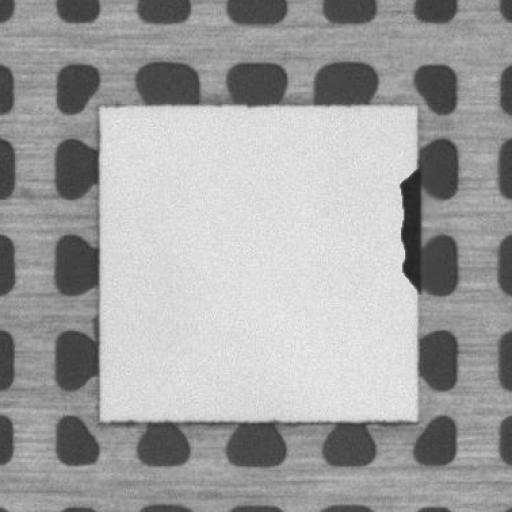DIE_BROKEN: (396, 166, 422, 288)
